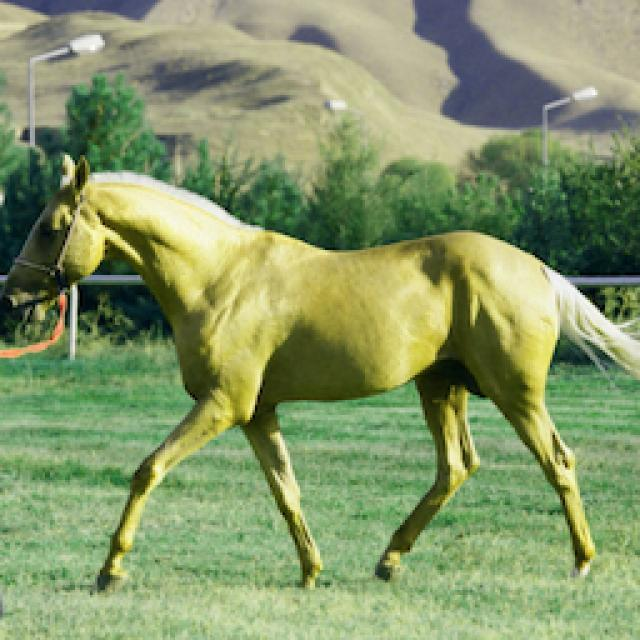Horse: (0, 145, 638, 600)
